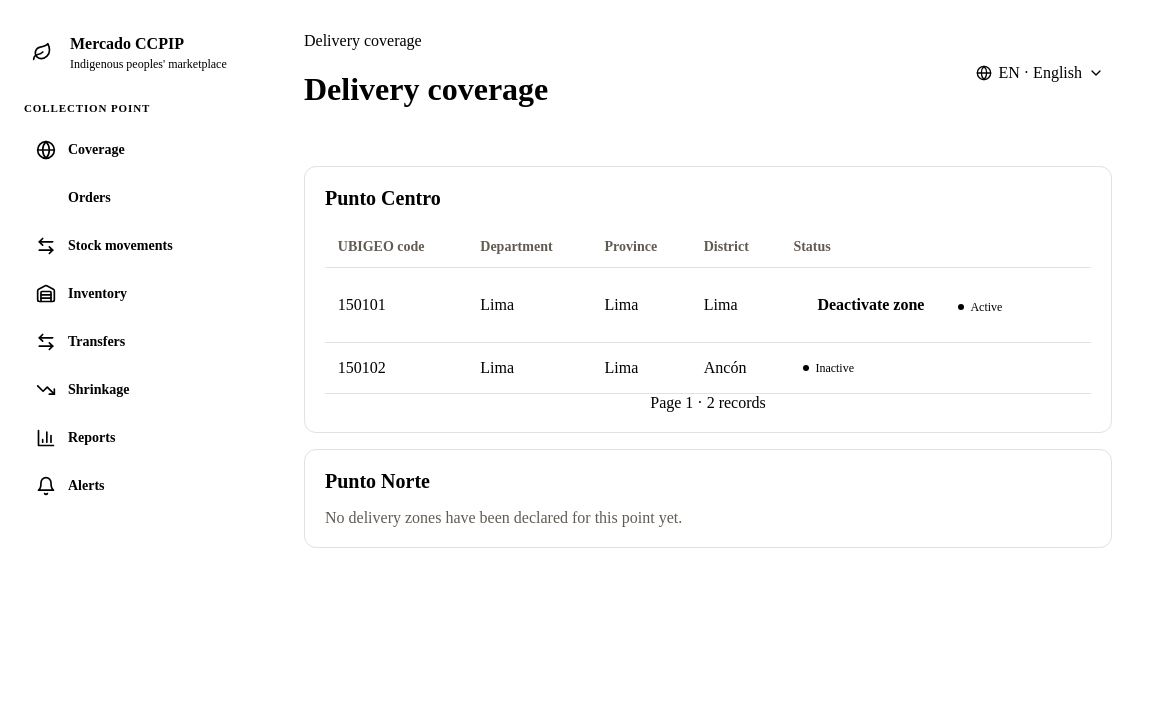
Test: Cobertura del punto (CCPIP-401) › localiza dialogo y acciones en inglés
Click the button with aria-label "Deactivate zone · Lima · 150101" at (871, 305), box x1=793 y1=281 x2=948 y2=329
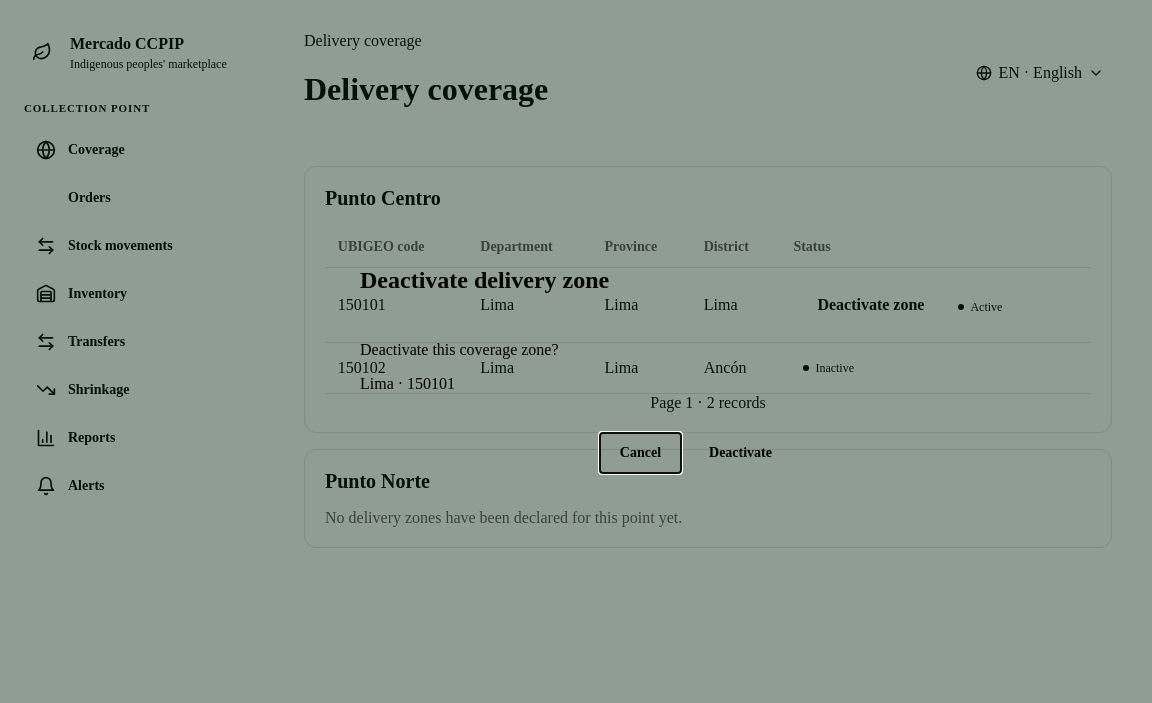
Result: the dialog "Deactivate delivery zone" is shown at x1=336 y1=223 x2=816 y2=497
Result: the button "Deactivate" is shown at x1=689 y1=433 x2=792 y2=473
